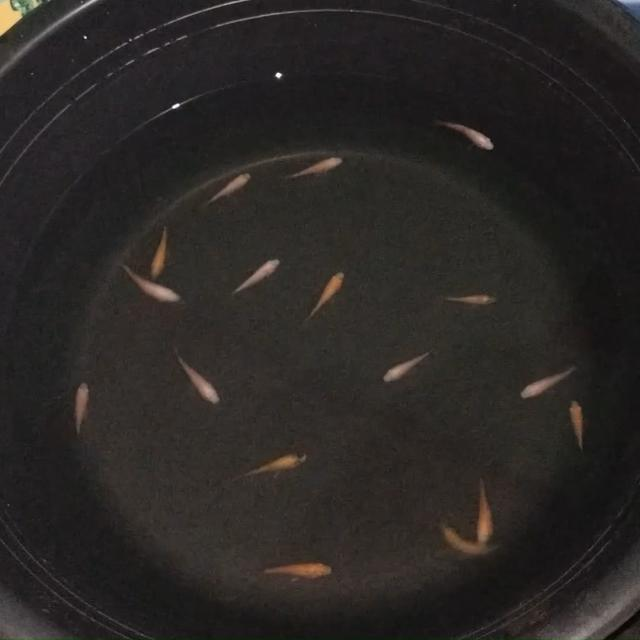nila: (296, 268, 348, 332), (234, 446, 312, 484), (172, 350, 222, 408), (119, 261, 180, 307), (191, 166, 254, 210), (432, 523, 506, 560), (377, 344, 440, 386), (222, 254, 282, 298), (516, 362, 578, 404), (430, 115, 497, 153), (257, 555, 337, 581), (281, 151, 345, 183), (476, 474, 496, 552), (564, 392, 588, 456), (149, 220, 171, 284), (440, 287, 500, 309), (72, 376, 90, 446)
